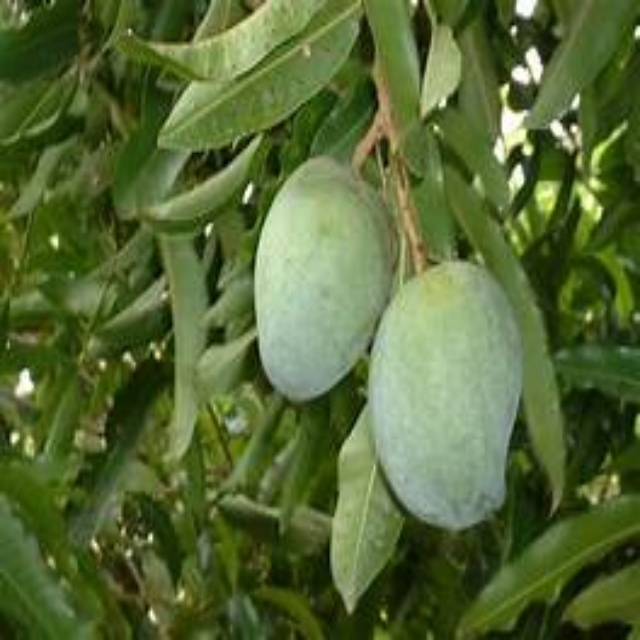mango: (242, 157, 404, 401), (380, 268, 517, 525)
